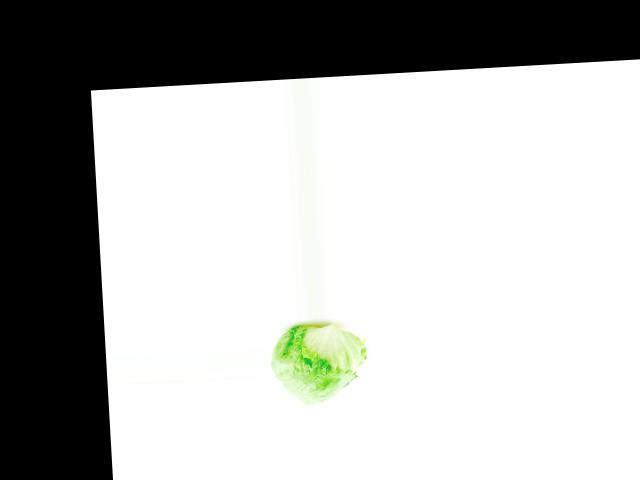lettuce: (266, 321, 369, 409)
